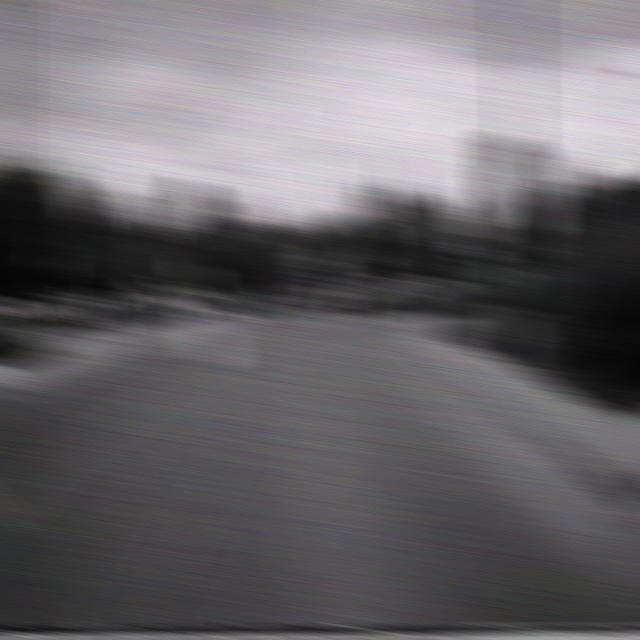stop: (427, 200, 468, 243)
